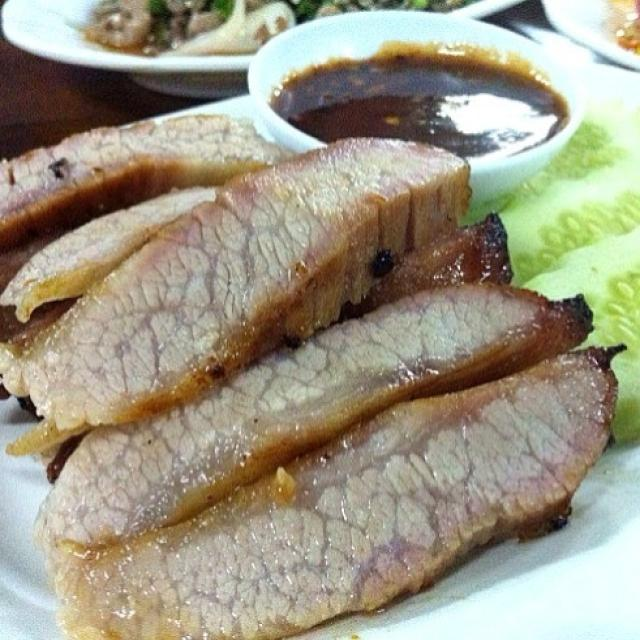猪肉菜式: (21, 21, 603, 623)
